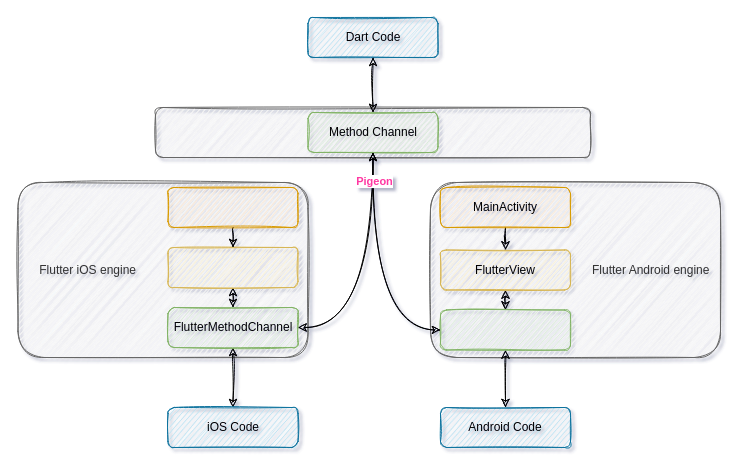
The diagram is 744 pixels wide and 471 high, and some of its shapes have lost their labels. The box of each missing label's shape, as (x1, y1, x2, y2) in pixels:
AppDelegate: (167, 186, 298, 228)
Flutter Framework: (154, 106, 590, 158)
FlutterViewController: (167, 246, 298, 288)
MethodChannel: (440, 309, 570, 350)
